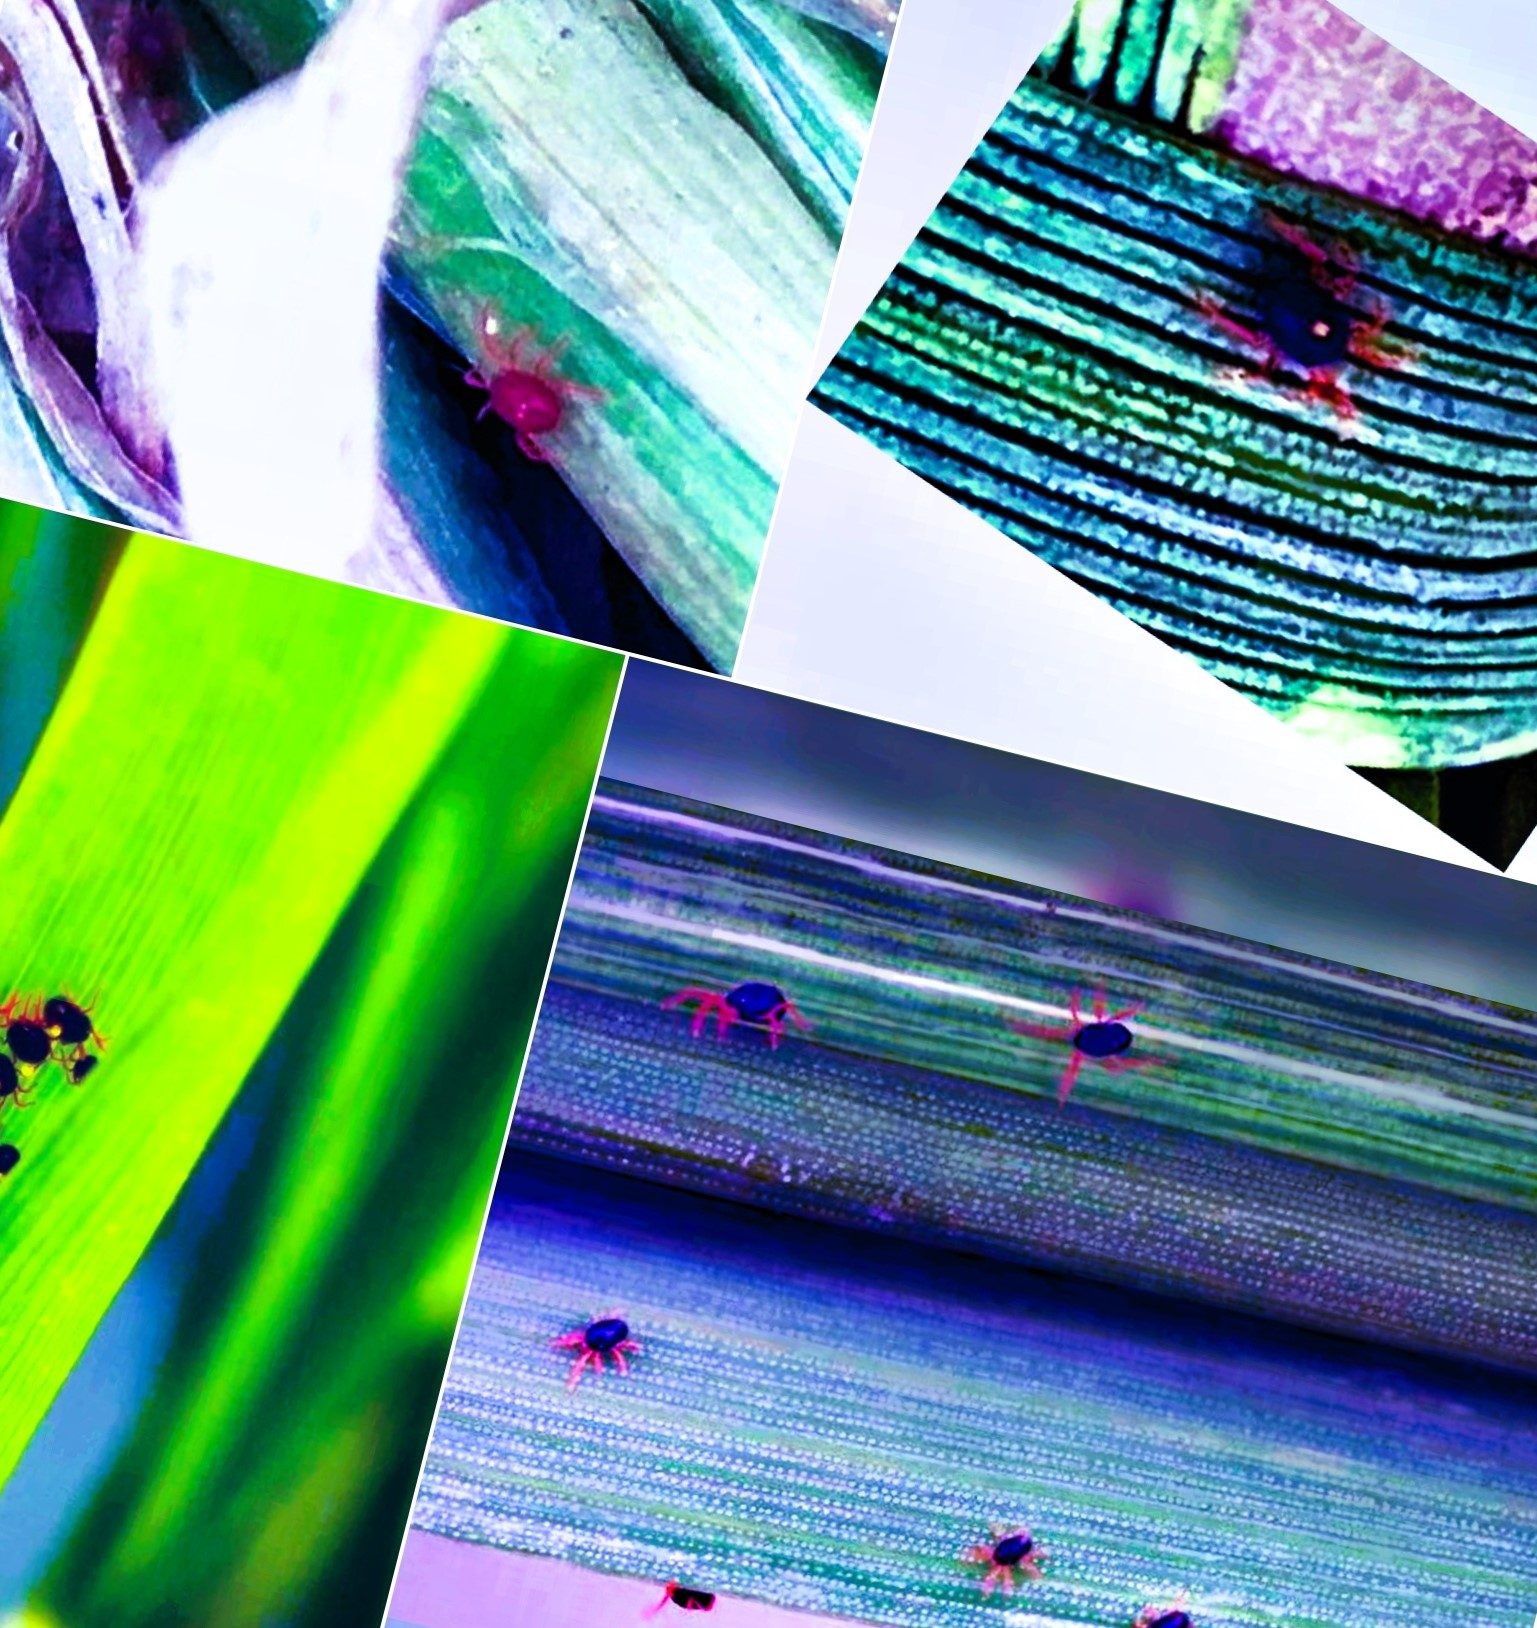Wheat Red Spider: (443, 298, 610, 480), (654, 949, 821, 1070)
